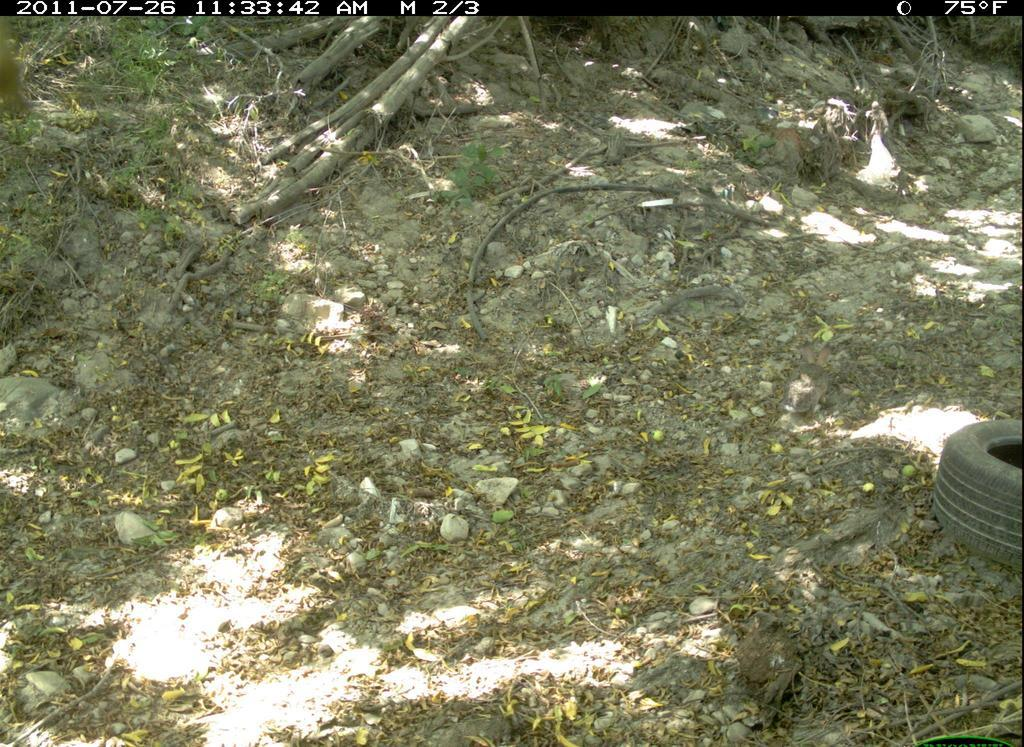rabbit: (781, 333, 839, 419)
